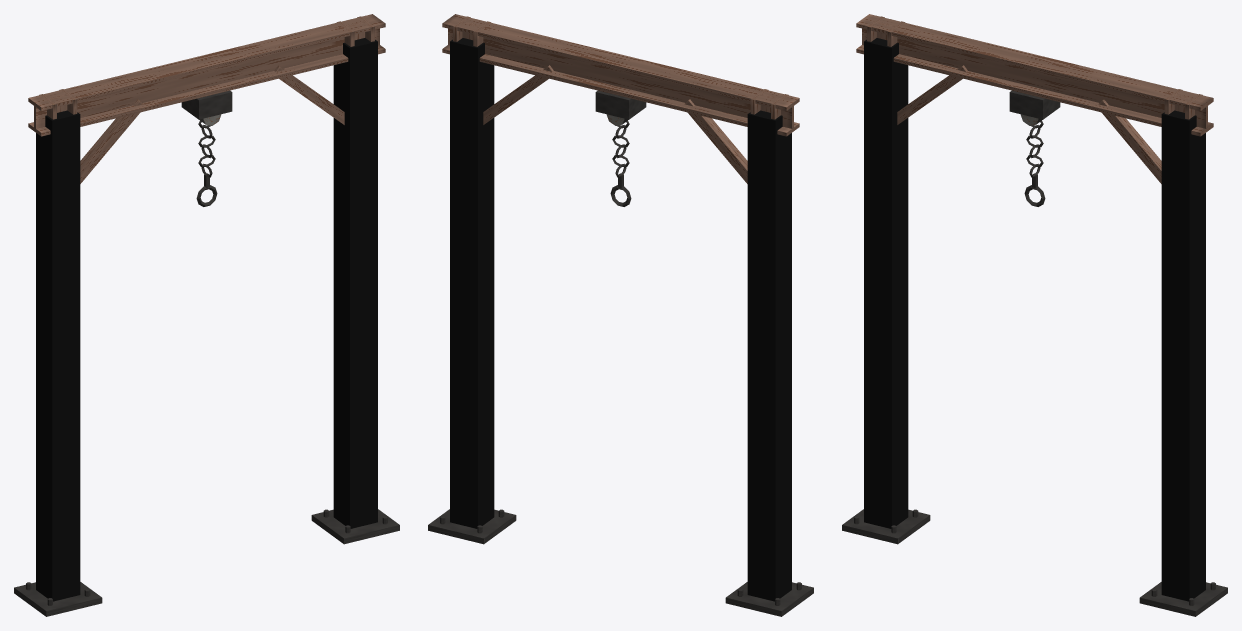
Rendered from gantry.fbx.
3 views of the same model, side by side, from view 1: azimuth 30°, elevation 25°; view 2: azimuth 150°, elevation 25°; view 3: azimuth 330°, elevation 25° (orthographic).
Parts seen in each view (by area): view 1: col_post1, col_post2, gantry, chain; view 2: col_post1, col_post2, gantry, chain; view 3: col_post2, col_post1, gantry, chain.
Boxes of the visible parts, <box> form: col_post1: <box>36,110,80,601</box>; col_post2: <box>333,38,377,528</box>; gantry: <box>14,14,399,616</box>; chain: <box>196,120,217,206</box>; col_post1: <box>747,110,791,601</box>; col_post2: <box>450,38,494,528</box>; gantry: <box>428,14,813,616</box>; chain: <box>610,120,631,206</box>; col_post2: <box>1161,110,1205,601</box>; col_post1: <box>864,38,908,528</box>; gantry: <box>842,14,1227,616</box>; chain: <box>1024,120,1045,206</box>.
Bounding box in the file's own units: 3.8 × 5.15 × 0.6.
1 material, 1 textured.
